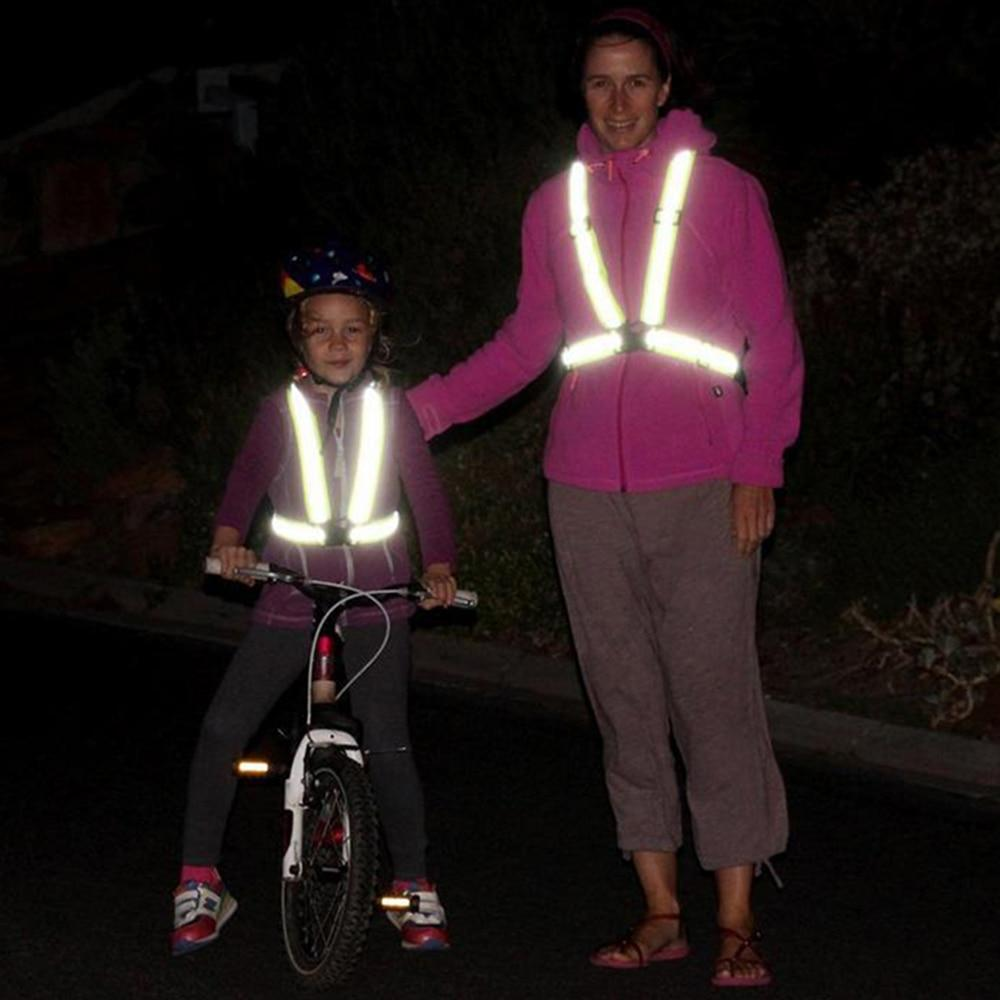Vest: (535, 135, 748, 421), (252, 380, 411, 566)
